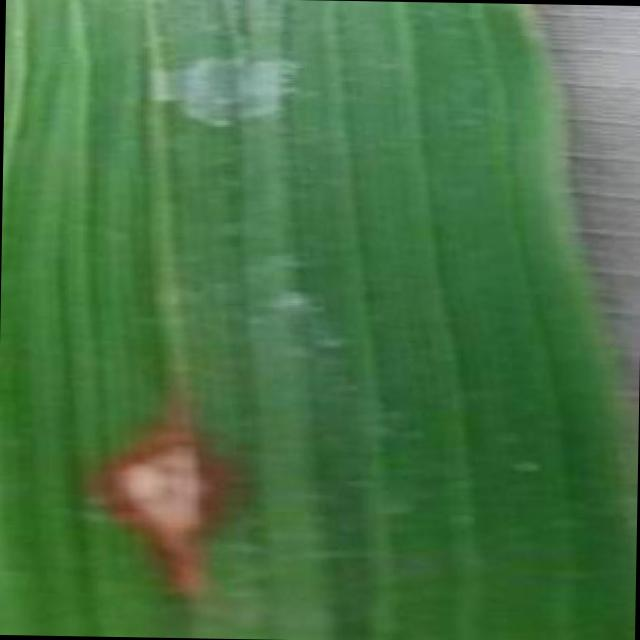Rice_Blast: (70, 367, 273, 584)
